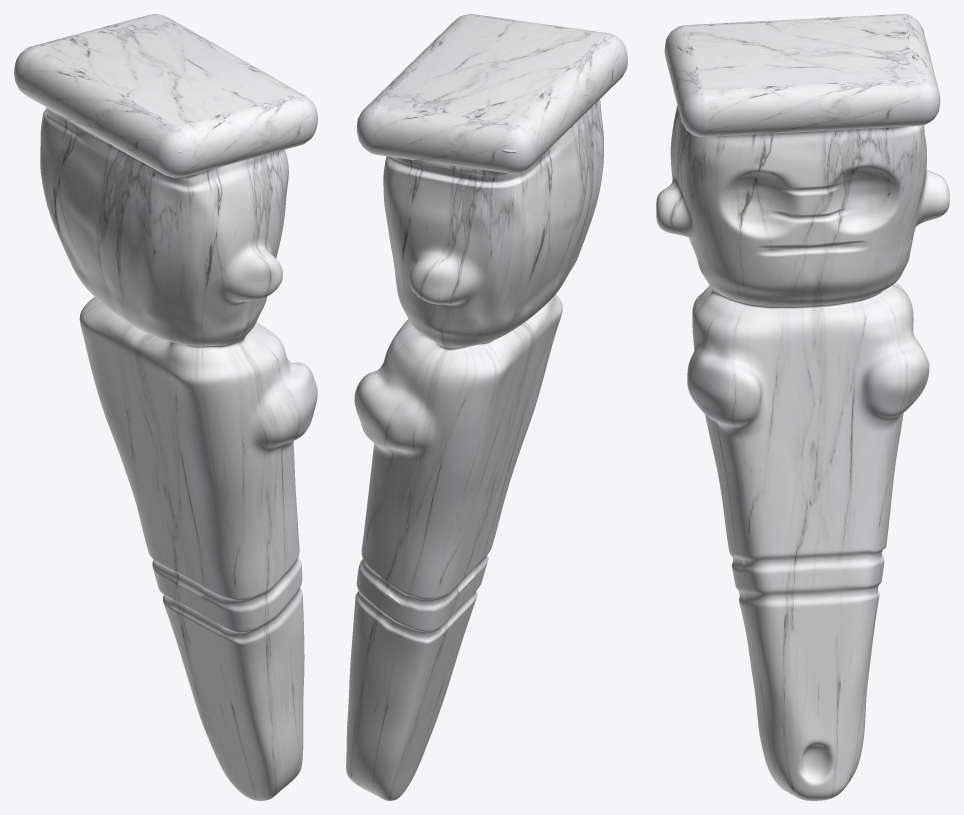
Rendered from ucuyaya-_cerro_narrio.glb.
3 renders of one model, left to right at view 1: azimuth 30°, elevation 25°; view 2: azimuth 150°, elevation 25°; view 3: azimuth 270°, elevation 25°, orthographic. The views are drawn at different scales.
Parts seen in each view (by area): view 1: Cubo_2; view 2: Cubo_2; view 3: Cubo_2.
Part boxes in pixels (<box>): Cubo_2: <box>14,14,317,800</box>; Cubo_2: <box>346,14,627,800</box>; Cubo_2: <box>656,14,949,800</box>.
Bounding box in the file's own units: 155 × 486 × 183.
Materials: 1 (1 with a texture image).
